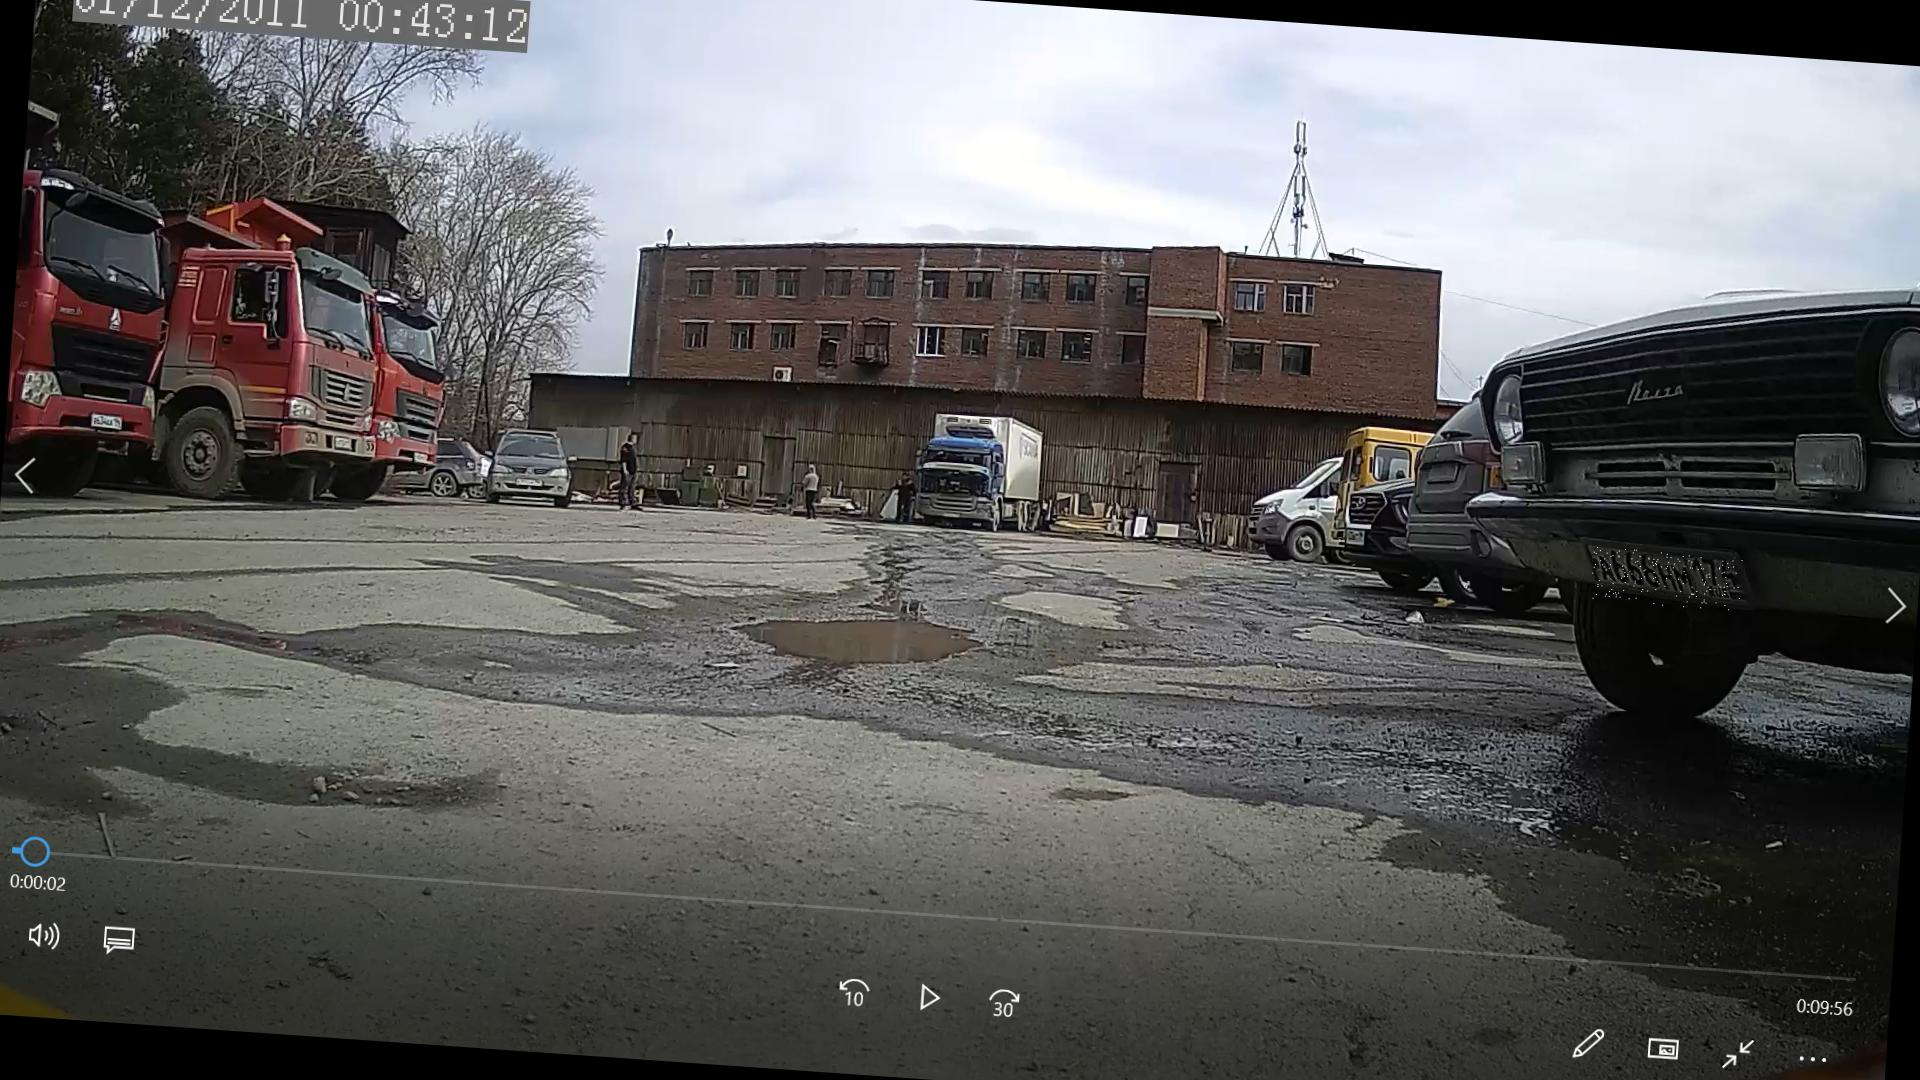plate: (1592, 548, 1745, 612)
